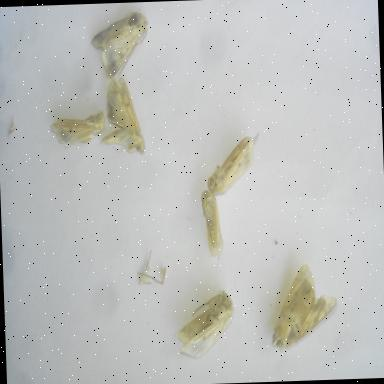abw: (266, 256, 338, 356), (172, 285, 237, 364), (96, 74, 150, 162), (87, 9, 153, 80), (202, 126, 264, 201), (196, 184, 232, 266), (46, 108, 108, 151)
